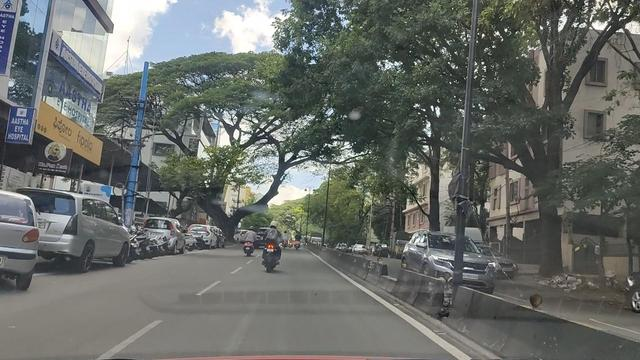LMV: (24, 184, 136, 271), (261, 210, 286, 274)
